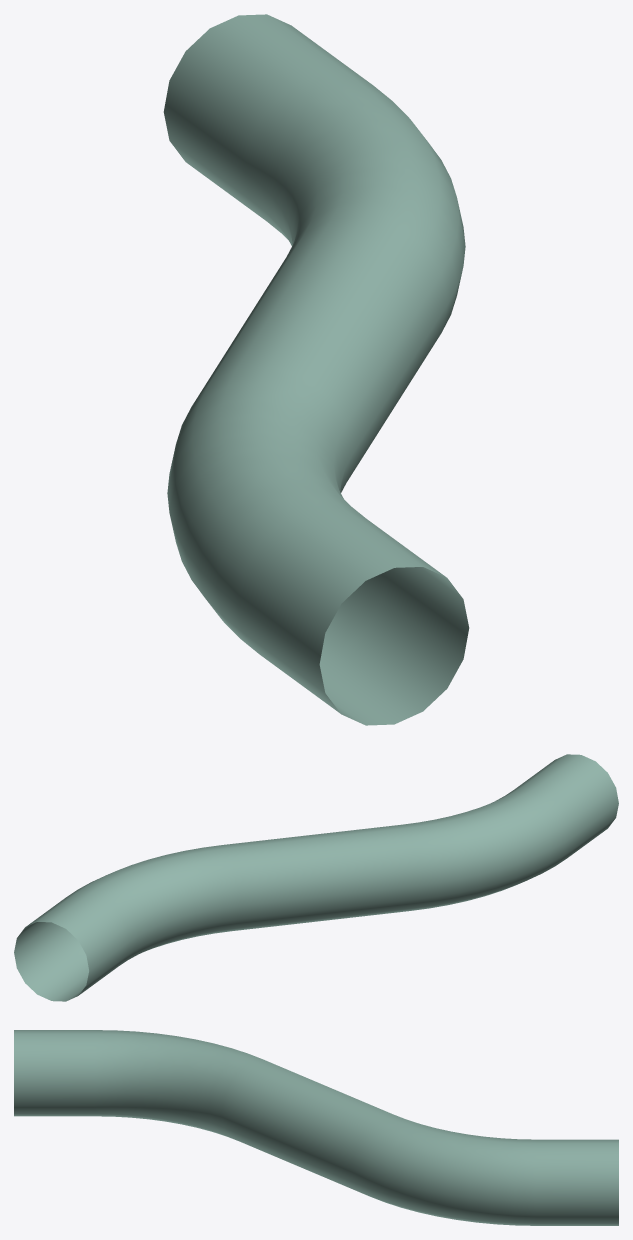
File: PipeLarge_BentSpecial_06.fbx
The picture shows the model from 3 angles, top to bottom: view 1: azimuth 30°, elevation 25°; view 2: azimuth 150°, elevation 25°; view 3: azimuth 270°, elevation 25°; orthographic projection. The views are drawn at different scales.
Parts seen in each view (by area): view 1: PipeLarge_BentSpecial_06.001; view 2: PipeLarge_BentSpecial_06.001; view 3: PipeLarge_BentSpecial_06.001.
Part boxes in pixels (<box>): PipeLarge_BentSpecial_06.001: <box>163,14,469,725</box>; PipeLarge_BentSpecial_06.001: <box>14,754,618,1001</box>; PipeLarge_BentSpecial_06.001: <box>14,1030,618,1225</box>.
Size of the model in its own units: 0.8 by 0.2 by 1.4.
